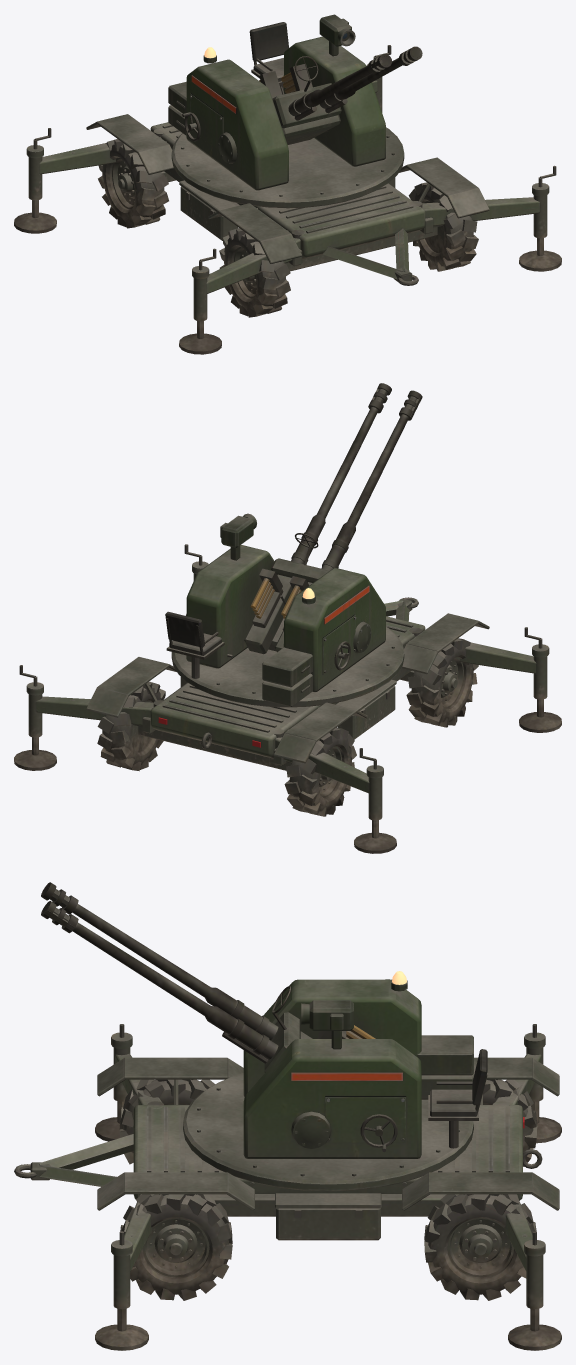
Rendered from Weathered_AAGun.fbx.
The picture shows the model from 3 angles, top to bottom: view 1: azimuth 30°, elevation 25°; view 2: azimuth 150°, elevation 25°; view 3: azimuth 270°, elevation 25°; orthographic projection. The views are drawn at different scales.
Parts seen in each view (by area): view 1: Enemy_AAGun_Mesh, Turret; view 2: Enemy_AAGun_Mesh, Turret; view 3: Enemy_AAGun_Mesh, Turret.
Boxes of the visible parts, x1,y1,x2,y2 form: Enemy_AAGun_Mesh: (14,45,561,354); Turret: (168,14,422,208); Enemy_AAGun_Mesh: (14,544,561,853); Turret: (165,383,422,707); Enemy_AAGun_Mesh: (14,1024,561,1350); Turret: (41,882,487,1191).
Size of the model in its own units: 3.22 by 2.24 by 3.24.
